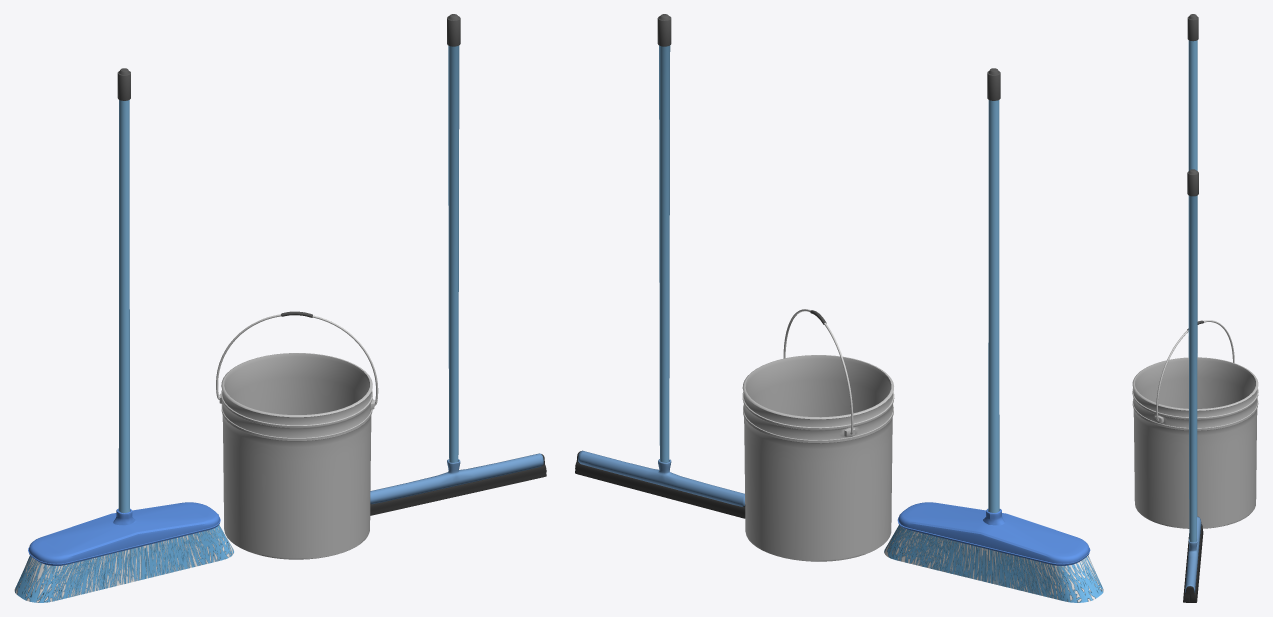
File: cleaning_instruments (1).glb
3 views of the same model, side by side, from view 1: azimuth 30°, elevation 25°; view 2: azimuth 150°, elevation 25°; view 3: azimuth 270°, elevation 25° (orthographic). The views are drawn at different scales.
Visible parts, largest first — view 1: Bail, Base_Broom, BroomStick, GumStick, Plastic_Gum, Gum, Handle_Bail; view 2: Bail, Base_Broom, BroomStick, GumStick, Plastic_Gum, Gum; view 3: Bail, GumStick, BroomStick, Plastic_Gum, Gum, Handle_Bail.
Boxes of the visible parts, x1,y1,x2,y2 form: Bail: (219, 353, 374, 559); Base_Broom: (14, 502, 233, 602); BroomStick: (117, 68, 130, 513); GumStick: (447, 14, 460, 462); Plastic_Gum: (370, 453, 543, 504); Gum: (370, 454, 546, 515); Handle_Bail: (216, 311, 378, 405); Bail: (742, 355, 894, 561); Base_Broom: (884, 502, 1103, 602); BroomStick: (987, 68, 1000, 512); GumStick: (657, 14, 671, 462); Plastic_Gum: (578, 450, 744, 506); Gum: (575, 451, 745, 518); Bail: (1132, 357, 1258, 528); GumStick: (1187, 169, 1198, 542); BroomStick: (1187, 14, 1198, 357); Plastic_Gum: (1185, 516, 1201, 592); Gum: (1183, 524, 1203, 602); Handle_Bail: (1156, 320, 1234, 421).
Size of the model in its own units: 4.99 by 4.61 by 1.26.
9 materials, 1 textured.
